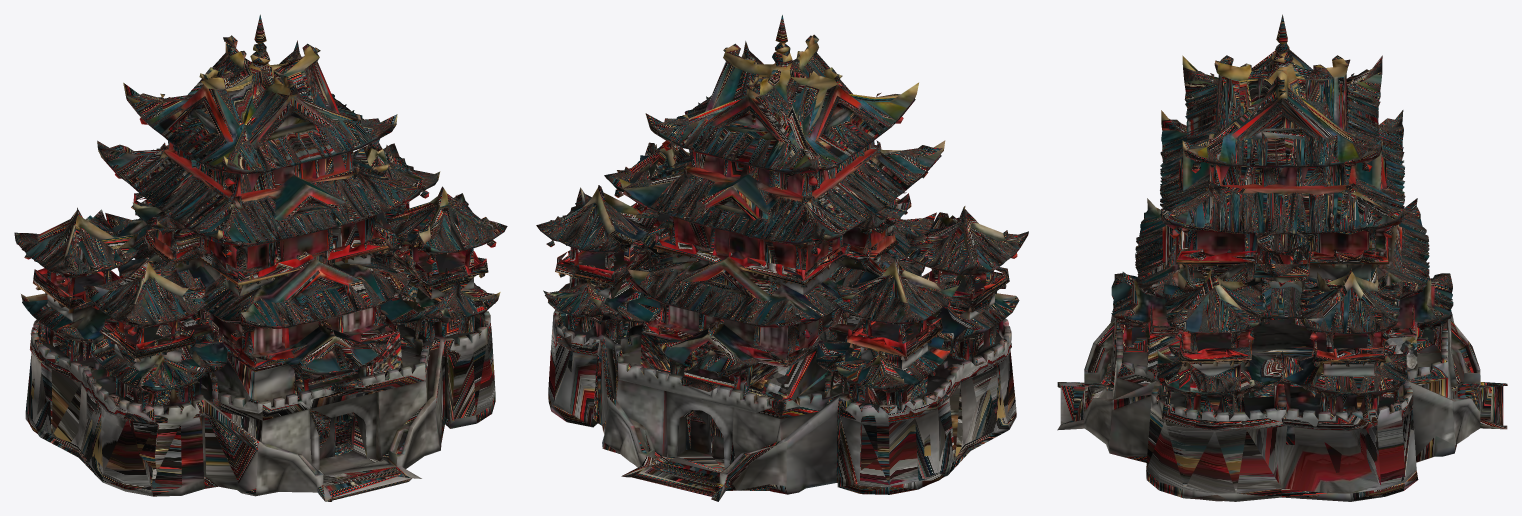
The model's file is Majestic_Pagoda_Palac.glb.
3 views of the same model, side by side, from view 1: azimuth 30°, elevation 25°; view 2: azimuth 150°, elevation 25°; view 3: azimuth 270°, elevation 25° (orthographic).
Visible parts, largest first — view 1: Majestic_Pagoda_Palac; view 2: Majestic_Pagoda_Palac; view 3: Majestic_Pagoda_Palac.
Boxes of the visible parts, bbox=[...] form: Majestic_Pagoda_Palac: bbox=[14, 14, 507, 501]; Majestic_Pagoda_Palac: bbox=[536, 15, 1028, 501]; Majestic_Pagoda_Palac: bbox=[1057, 14, 1507, 501].
Bounding box in the file's own units: 1.87 × 1.83 × 1.9.
1 material, 1 textured.
